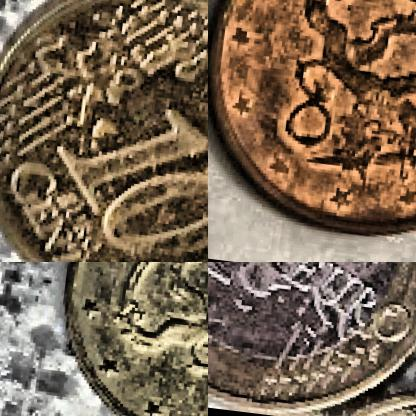coin: (0, 0, 207, 261), (208, 0, 415, 254), (208, 262, 415, 415), (44, 262, 207, 415)
